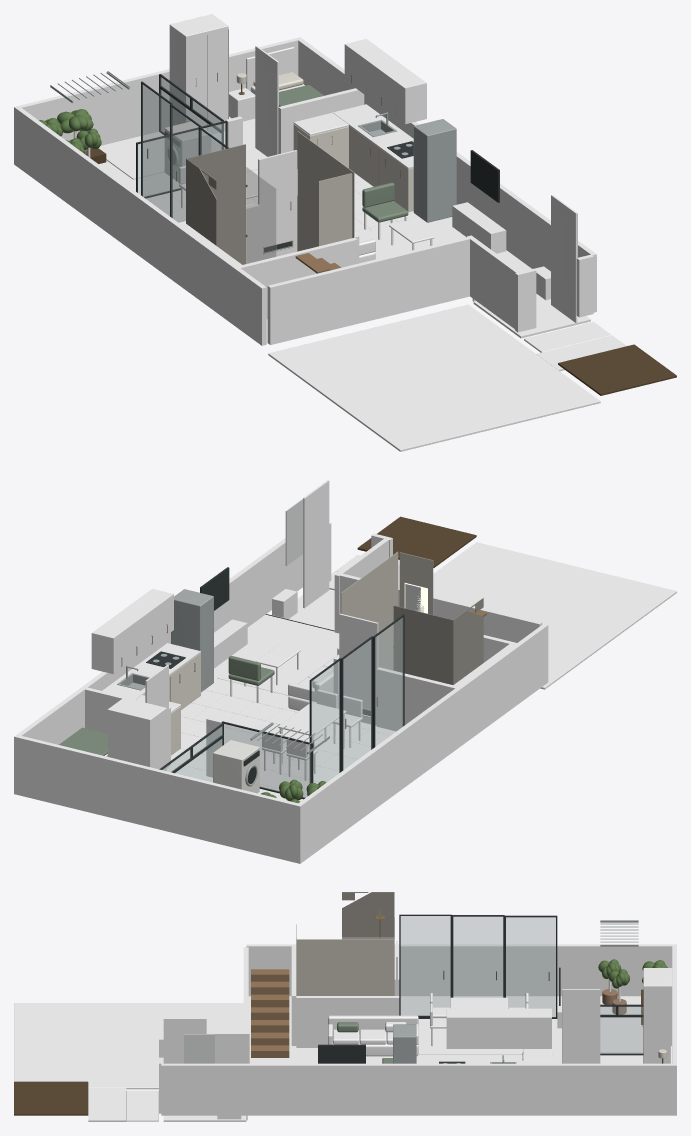
The model's file is interior-lt1.glb.
3 renders of one model, top to bottom at view 1: azimuth 30°, elevation 25°; view 2: azimuth 150°, elevation 25°; view 3: azimuth 270°, elevation 25°, orthographic. The views are drawn at different scales.
Visible parts, largest first — view 1: ARCH_LT1_cut_L1_WallSoffitTrim__WEB, Carport_Finish__WEB, GuestWardrobe__WEB, KitchenUpper__WEB, Fridge__WEB, L1_Finish_Assumed__WEB, D05_Slider__WEB, BV_L1_NorthStone__WEB, Front_Garden__WEB, BV_L1_EastStone__WEB, GardenSlider_P2_Glass__WEB, ARCH_LT1_cut_FacadePanel_GG2_LOWER__WEB (+23 smaller); view 2: ARCH_LT1_cut_L1_WallSoffitTrim__WEB, Carport_Finish__WEB, L1_Finish_Assumed__WEB, KitchenUpper__WEB, BV_L1_NorthStone__WEB, GuestWardrobe__WEB, BV_L1_EastStone__WEB, GardenSlider_P1_Glass__WEB, GardenSlider_P0_Glass__WEB, D00_Foyer__WEB, GardenSlider_P2_Glass__WEB, D05_Slider__WEB (+20 smaller); view 3: ARCH_LT1_cut_L1_WallSoffitTrim__WEB, Carport_Finish__WEB, L1_Finish_Assumed__WEB, BV_L1_EastStone__WEB, GardenSlider_P0_Glass__WEB, GardenSlider_P2_Glass__WEB, KitchenUpper__WEB, GardenSlider_P1_Glass__WEB, D01_Guest__WEB, GuestWardrobe__WEB, Front_Garden__WEB, BV_L1_WestShowerStone__WEB (+16 smaller).
Part boxes in pixels (x1,y1,x2,y2): ARCH_LT1_cut_L1_WallSoffitTrim__WEB: (14, 37, 596, 345); Carport_Finish__WEB: (268, 304, 600, 451); GuestWardrobe__WEB: (169, 14, 228, 133); KitchenUpper__WEB: (344, 39, 426, 124); Fridge__WEB: (413, 119, 456, 222); L1_Finish_Assumed__WEB: (99, 132, 531, 343); D05_Slider__WEB: (258, 150, 297, 260); BV_L1_NorthStone__WEB: (187, 144, 245, 264); Front_Garden__WEB: (558, 344, 676, 395); BV_L1_EastStone__WEB: (297, 131, 354, 251); GardenSlider_P2_Glass__WEB: (142, 84, 169, 215); ARCH_LT1_cut_FacadePanel_GG2_LOWER__WEB: (138, 123, 225, 196); ARCH_LT1_cut_L1_WallSoffitTrim__WEB: (14, 522, 548, 863); Carport_Finish__WEB: (433, 542, 676, 689); L1_Finish_Assumed__WEB: (169, 614, 395, 800); KitchenUpper__WEB: (91, 588, 173, 674); BV_L1_NorthStone__WEB: (393, 605, 452, 684); GuestWardrobe__WEB: (107, 697, 166, 770); BV_L1_EastStone__WEB: (341, 551, 398, 670); GardenSlider_P1_Glass__WEB: (343, 639, 371, 769); GardenSlider_P0_Glass__WEB: (375, 617, 403, 746); D00_Foyer__WEB: (303, 480, 329, 608); GardenSlider_P2_Glass__WEB: (312, 661, 339, 783); D05_Slider__WEB: (339, 613, 378, 725); ARCH_LT1_cut_L1_WallSoffitTrim__WEB: (159, 944, 676, 1115); Carport_Finish__WEB: (14, 1003, 243, 1089); L1_Finish_Assumed__WEB: (248, 996, 642, 1063); BV_L1_EastStone__WEB: (296, 939, 394, 995); GardenSlider_P0_Glass__WEB: (401, 916, 450, 1015); GardenSlider_P2_Glass__WEB: (506, 917, 555, 1016); KitchenUpper__WEB: (446, 1008, 551, 1048); GardenSlider_P1_Glass__WEB: (453, 917, 502, 997); D01_Guest__WEB: (562, 989, 600, 1063); GuestWardrobe__WEB: (643, 968, 672, 1063); Front_Garden__WEB: (14, 1081, 88, 1115); BV_L1_WestShowerStone__WEB: (342, 892, 394, 939).
Size of the model in its own units: 6 by 2.64 by 13.85.
